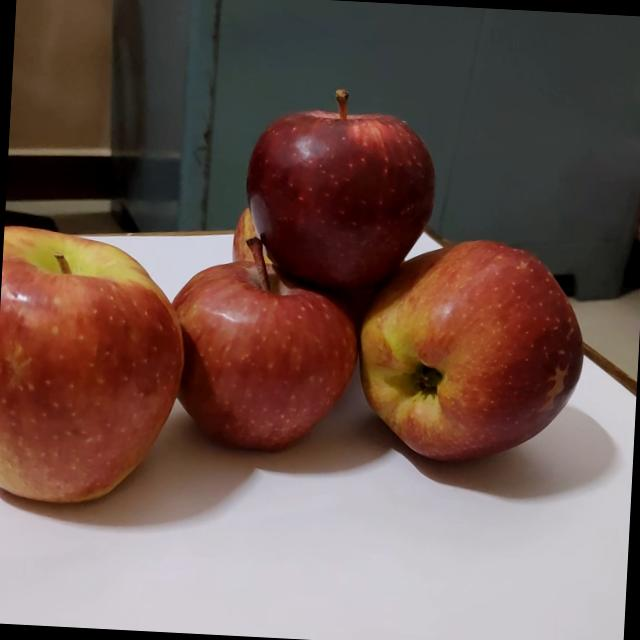apple: (342, 232, 588, 472), (0, 214, 184, 512), (232, 77, 447, 301), (160, 231, 362, 458), (231, 203, 411, 283)
